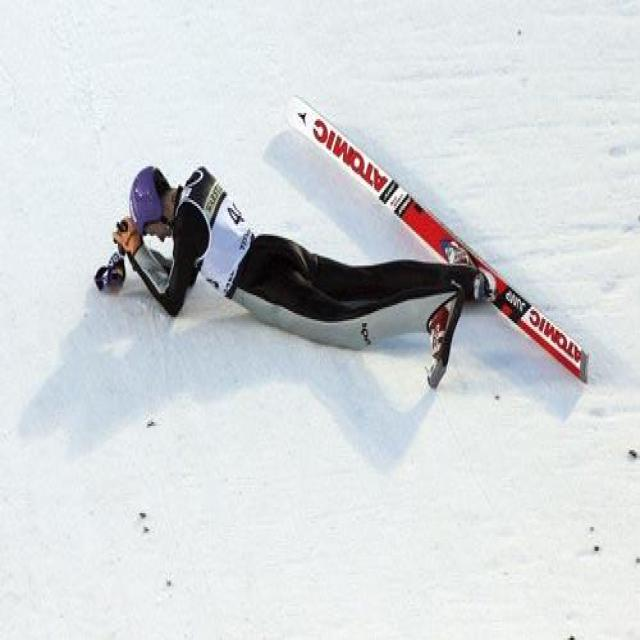down: (88, 160, 500, 388)
